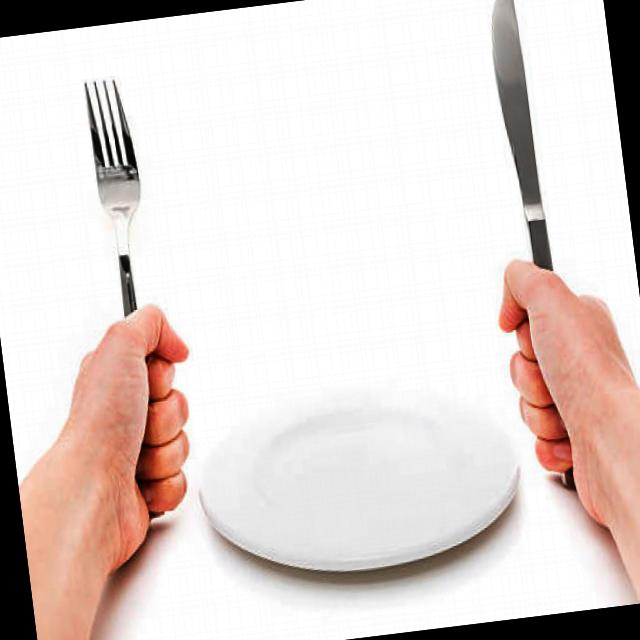fork: (81, 73, 181, 521)
